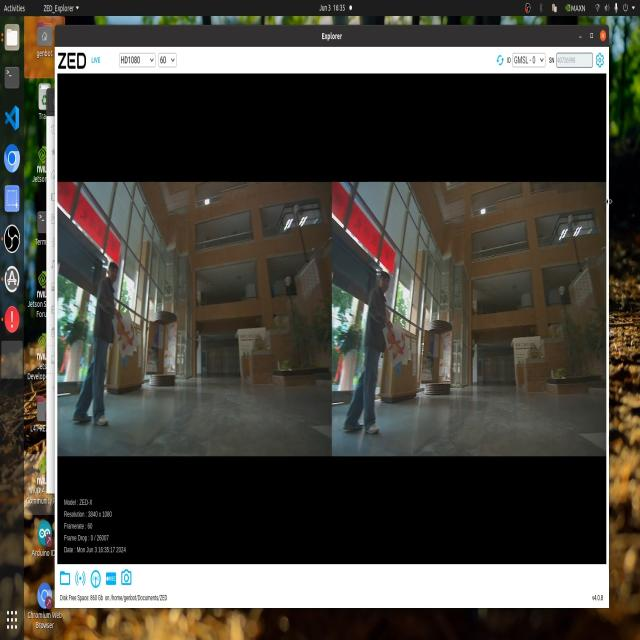red: (383, 313, 410, 350), (114, 318, 144, 345)
